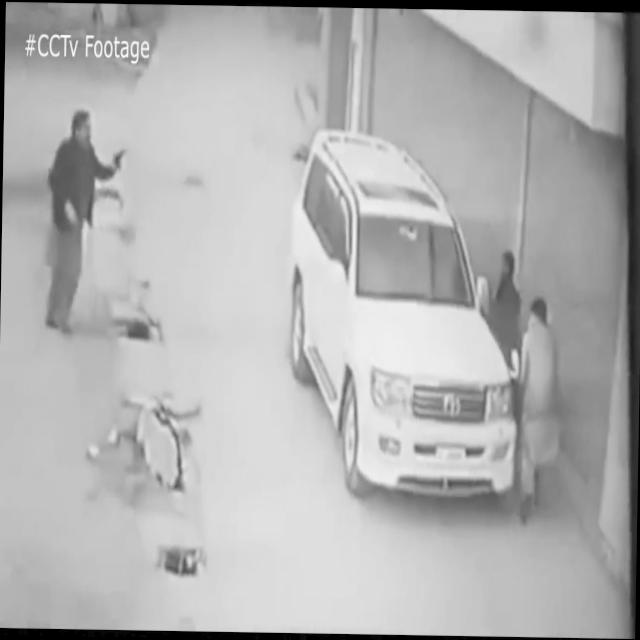gun: (108, 144, 128, 180)
person: (521, 293, 560, 374), (491, 232, 518, 311)
person with a gun: (39, 104, 130, 342)
